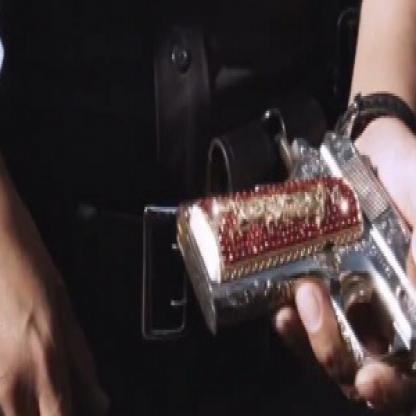gun: (165, 72, 415, 414)
